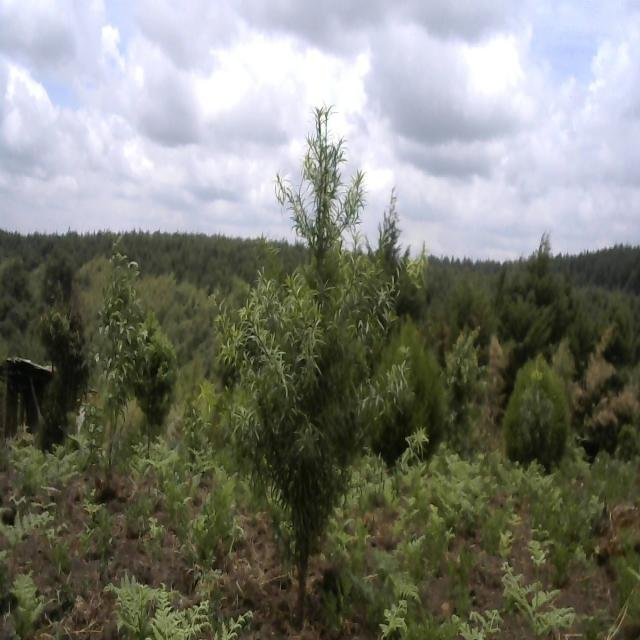Podocarpus falcatus: (218, 102, 419, 550)
Syzygium gineense: (134, 316, 184, 421)
other: (80, 256, 144, 471)
